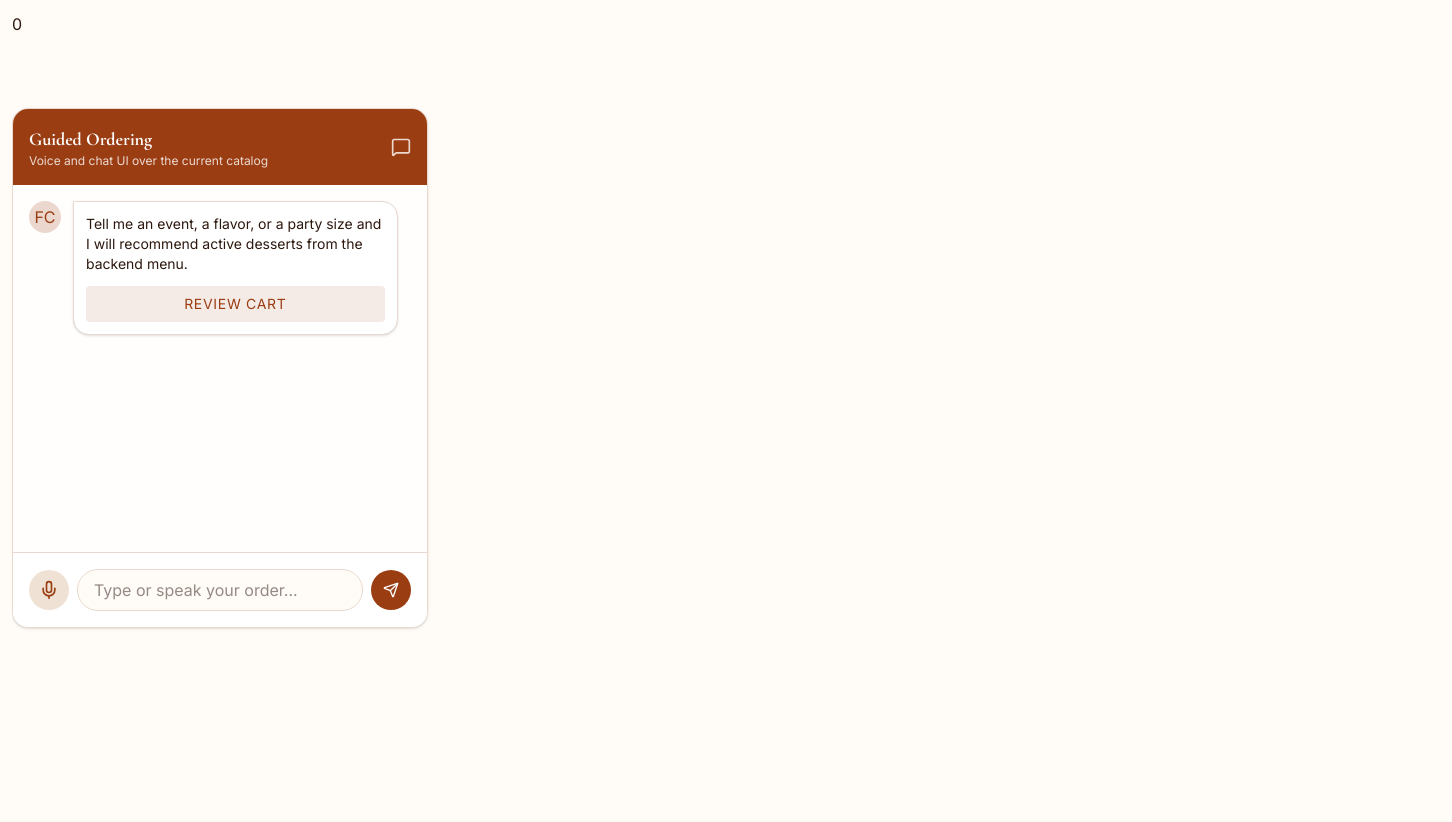
Test: ConversationalAssistant › keeps typed chat working and adds backend-validated cart items
The width and height of the screenshot is (1452, 822).
In the field with placeholder "Type or speak your order...": (220, 590) [77,569,363,611], type "Show me something chocolate."
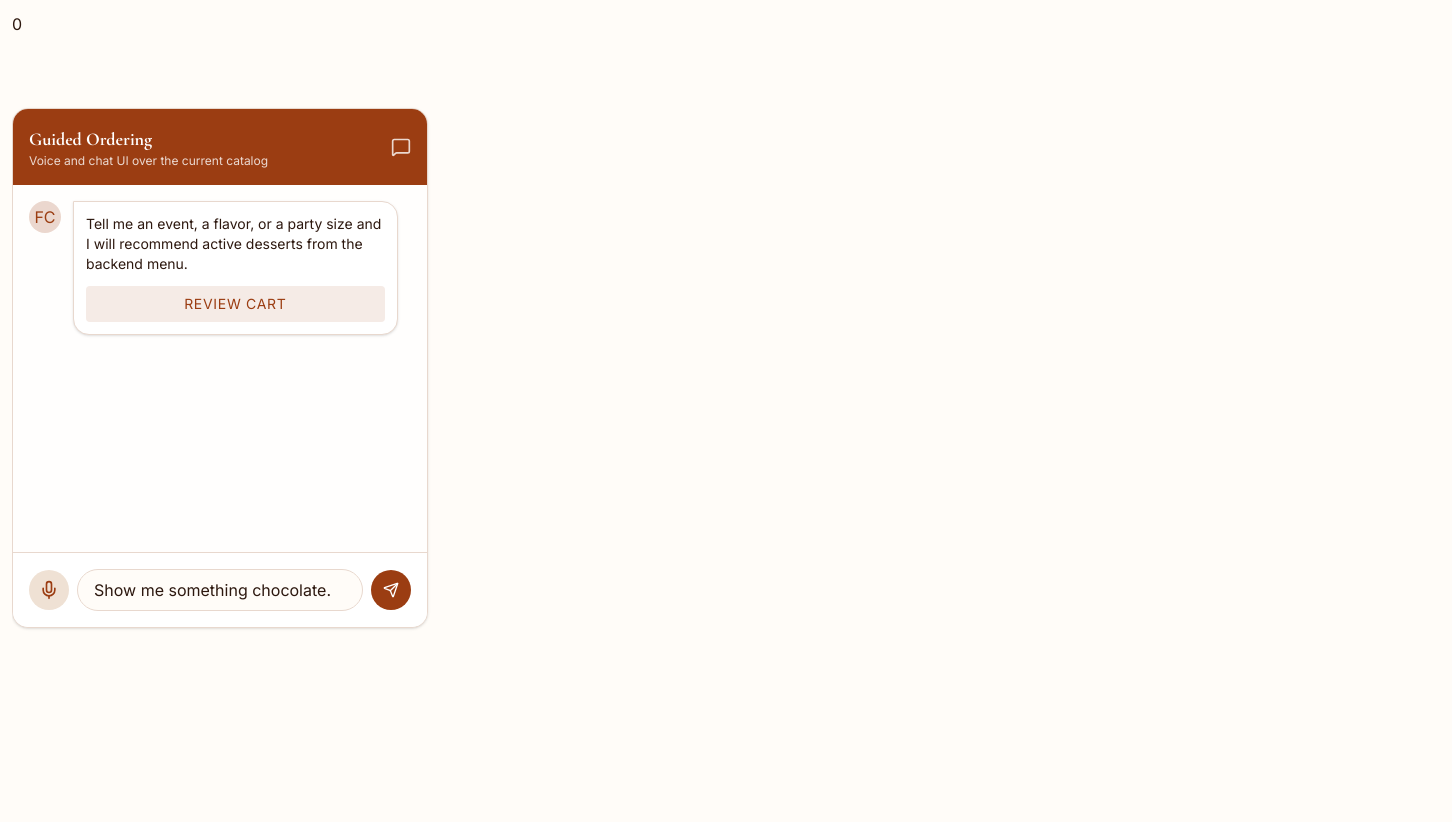
Click the button named "Send message": (391, 590) [371,570,411,610]
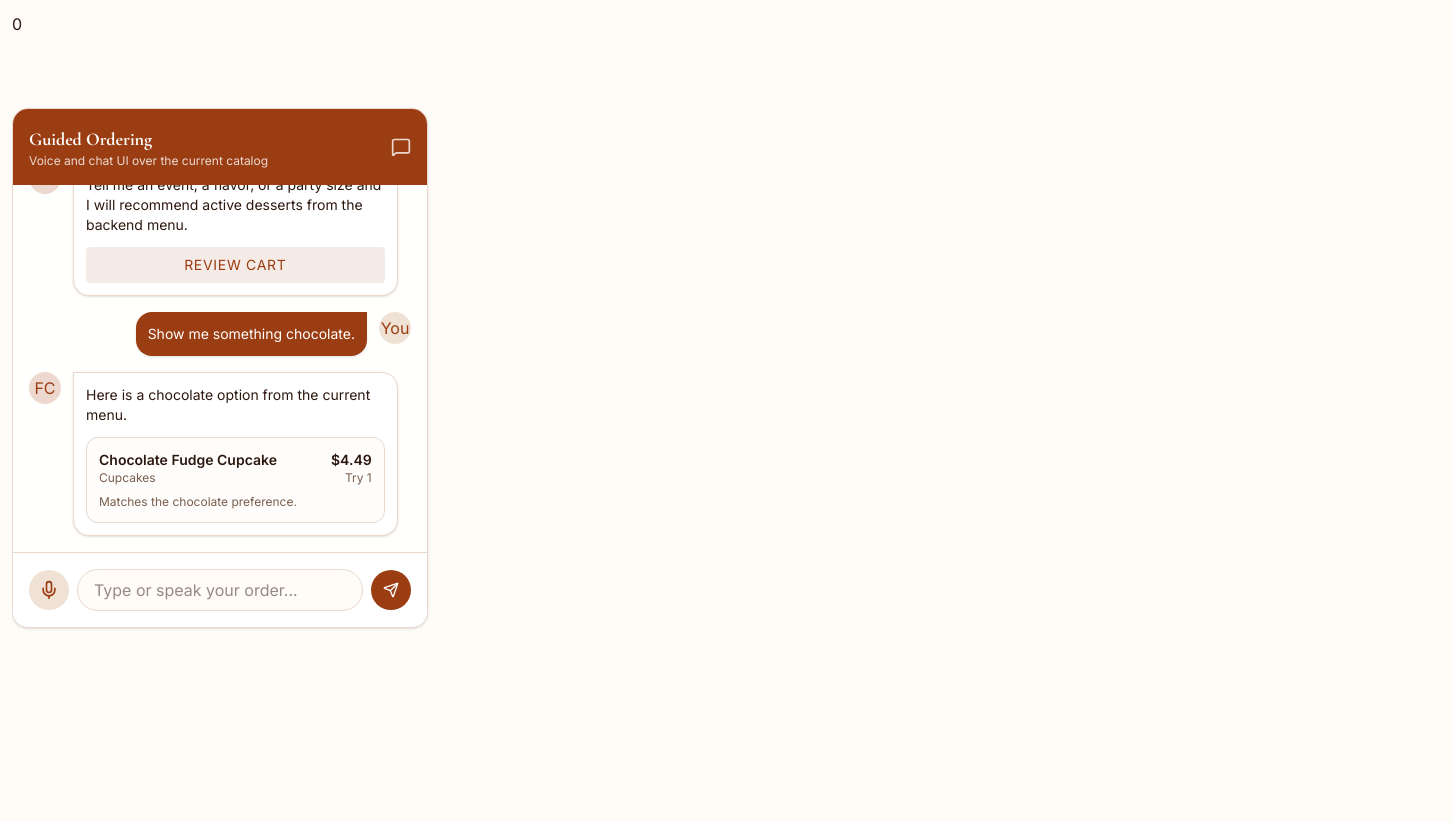
Check: the text "Here is a chocolate option from the current menu." is shown, box [86,386,370,423]
In the field with placeholder "Type or speak your order...": (220, 590) [77,569,363,611], type "Add two of those to my cart."
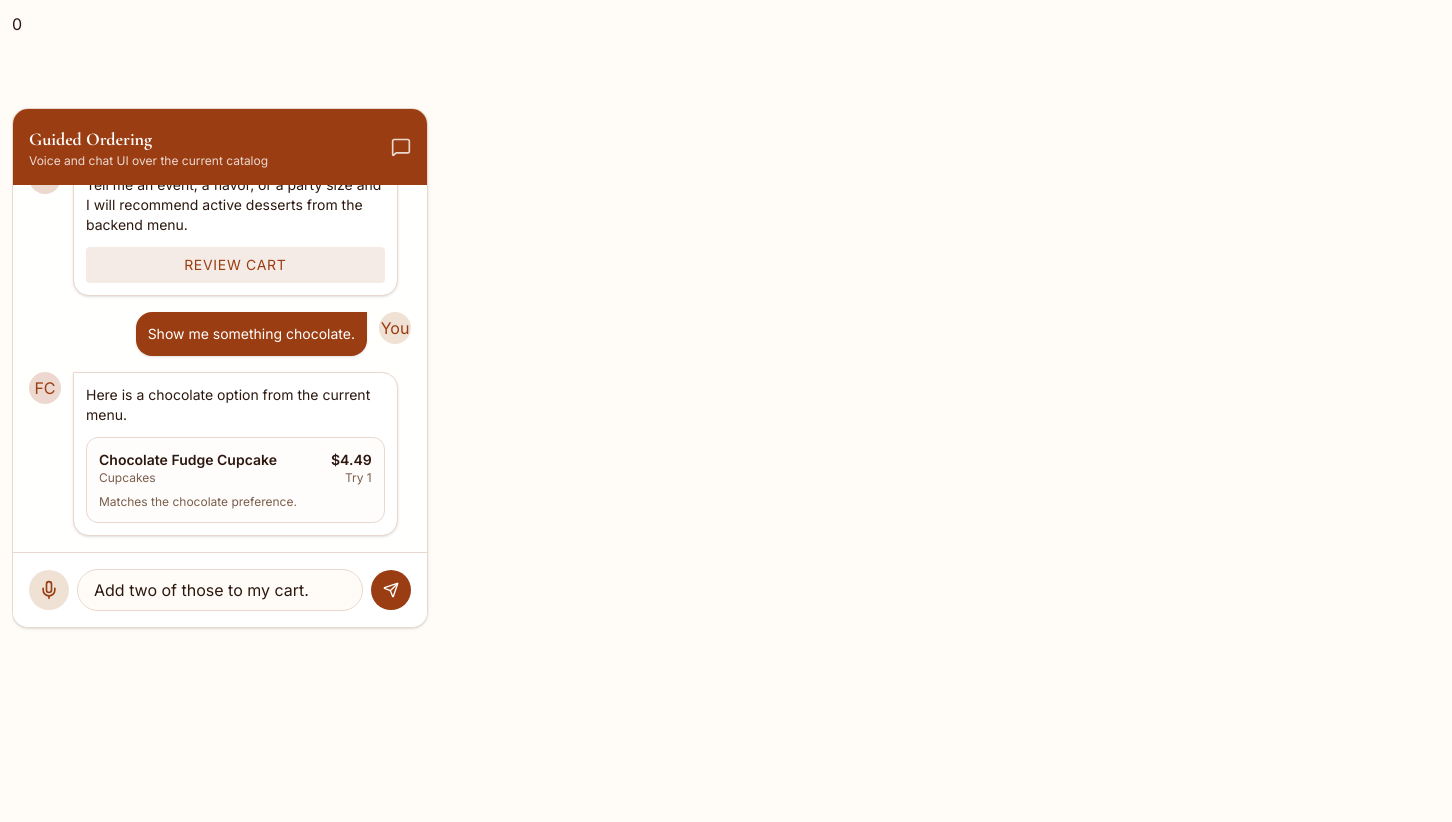
Click the button named "Send message": (391, 590) [371,570,411,610]
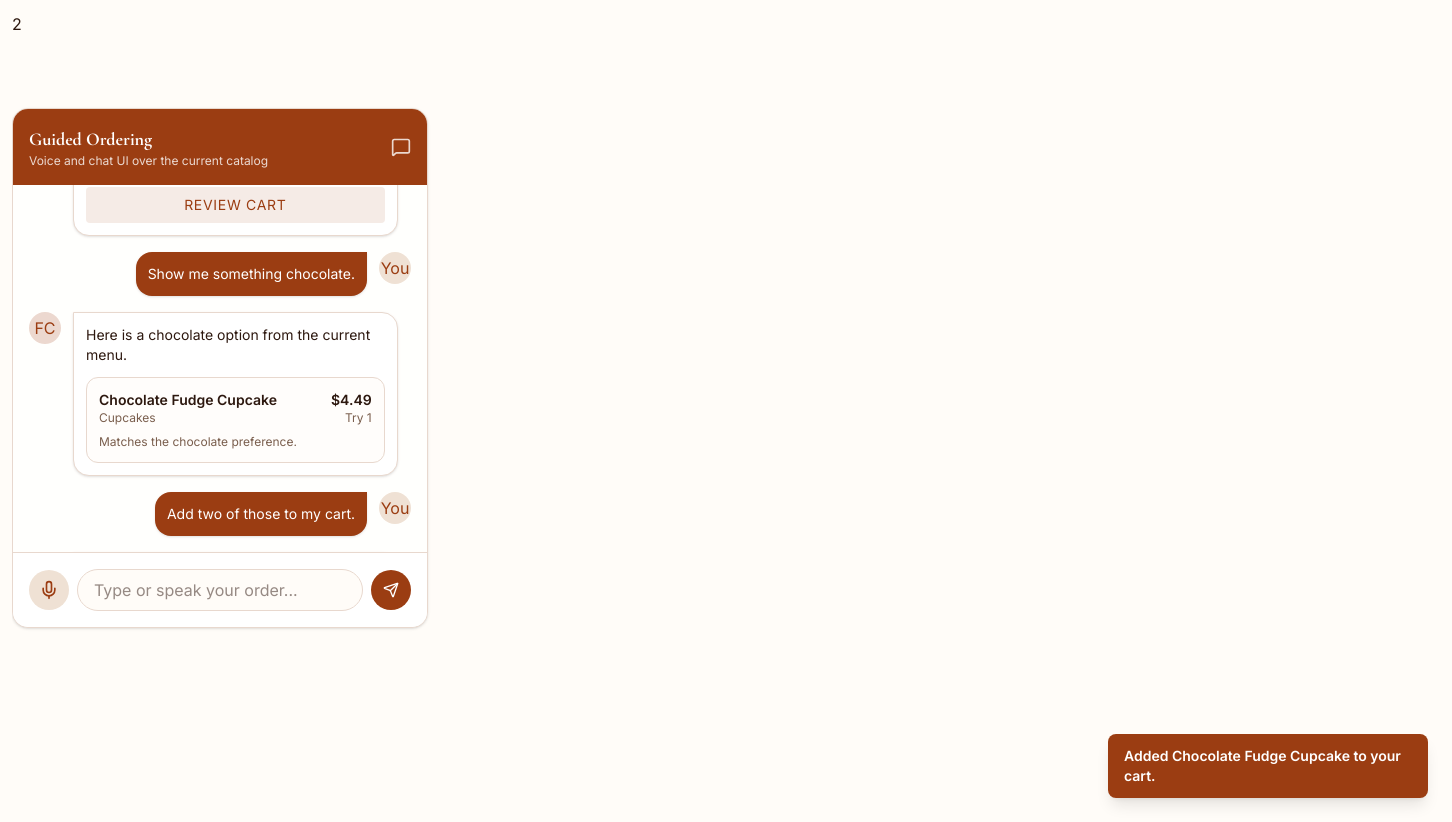
Check: the text with test id "cart-total-items" reads "2", box [12,14,22,34]
